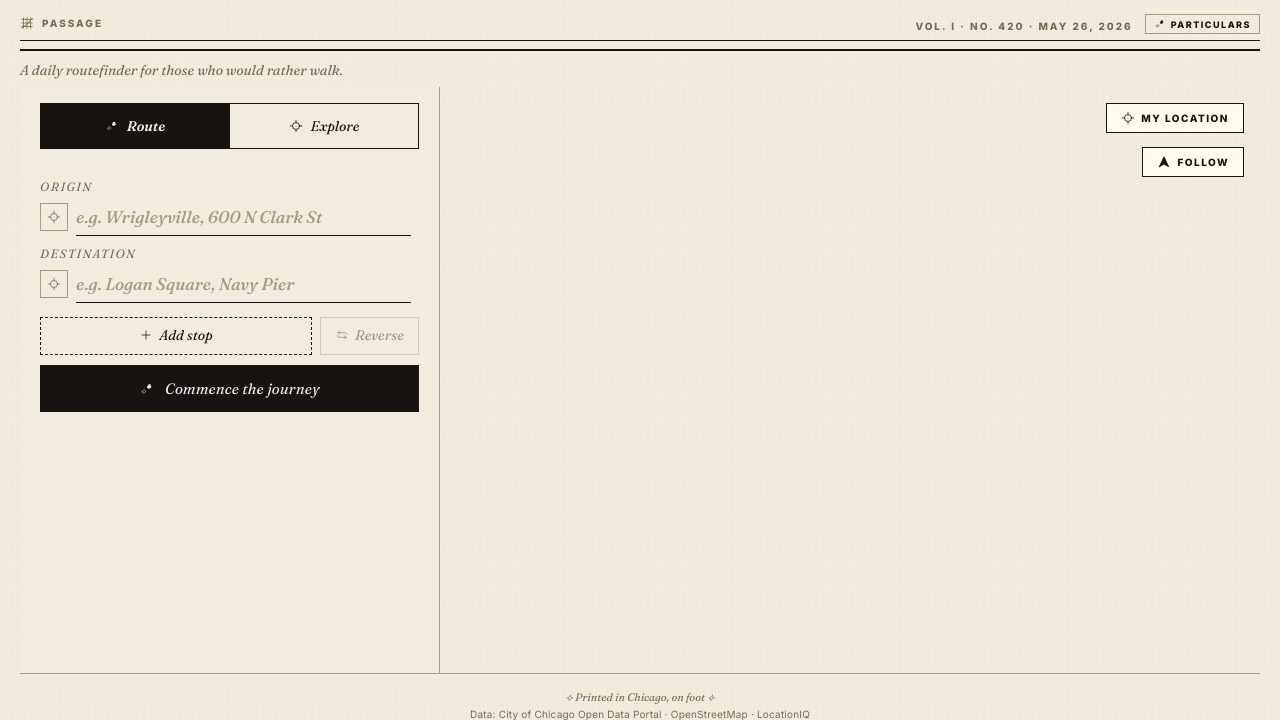
Test: animated route drawing › does not schedule animation when prefers-reduced-motion is active
Type "Wrigleyville" into the dropdown named "Origin" at [244, 217], box [76, 198, 411, 236]
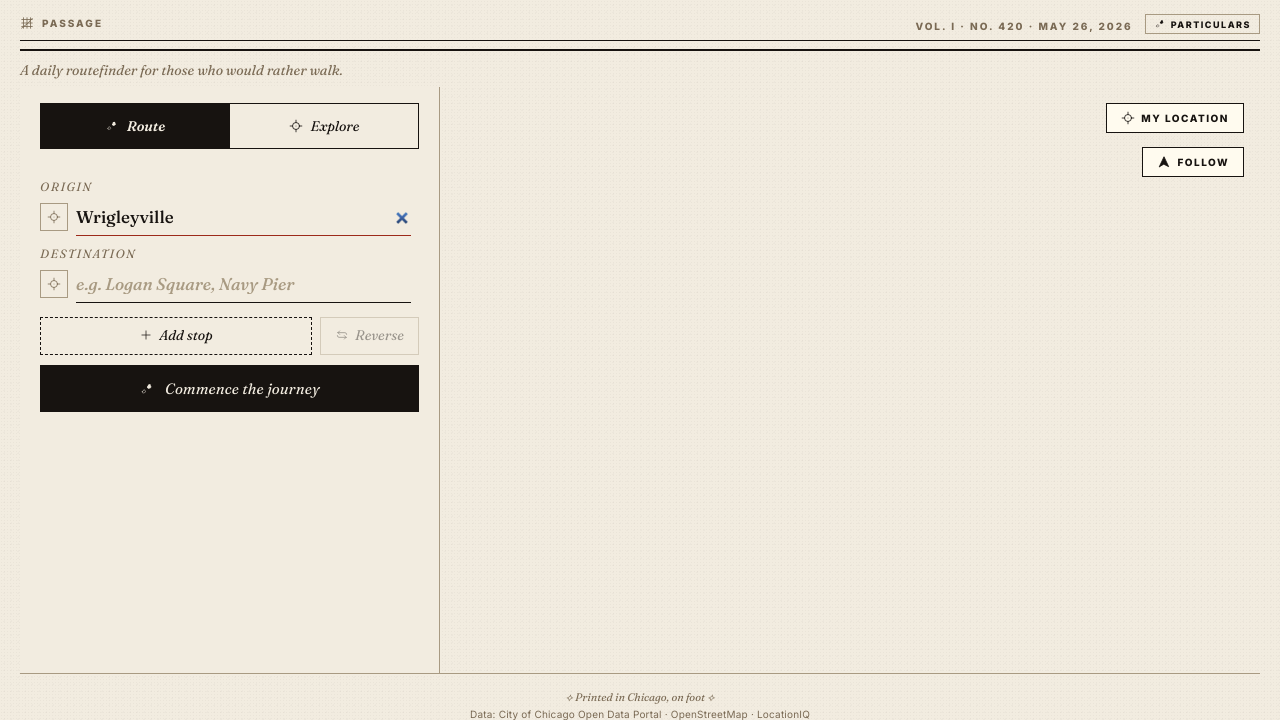
Type "Logan Square" into the dropdown named "Destination" at [244, 284], box [76, 265, 411, 303]
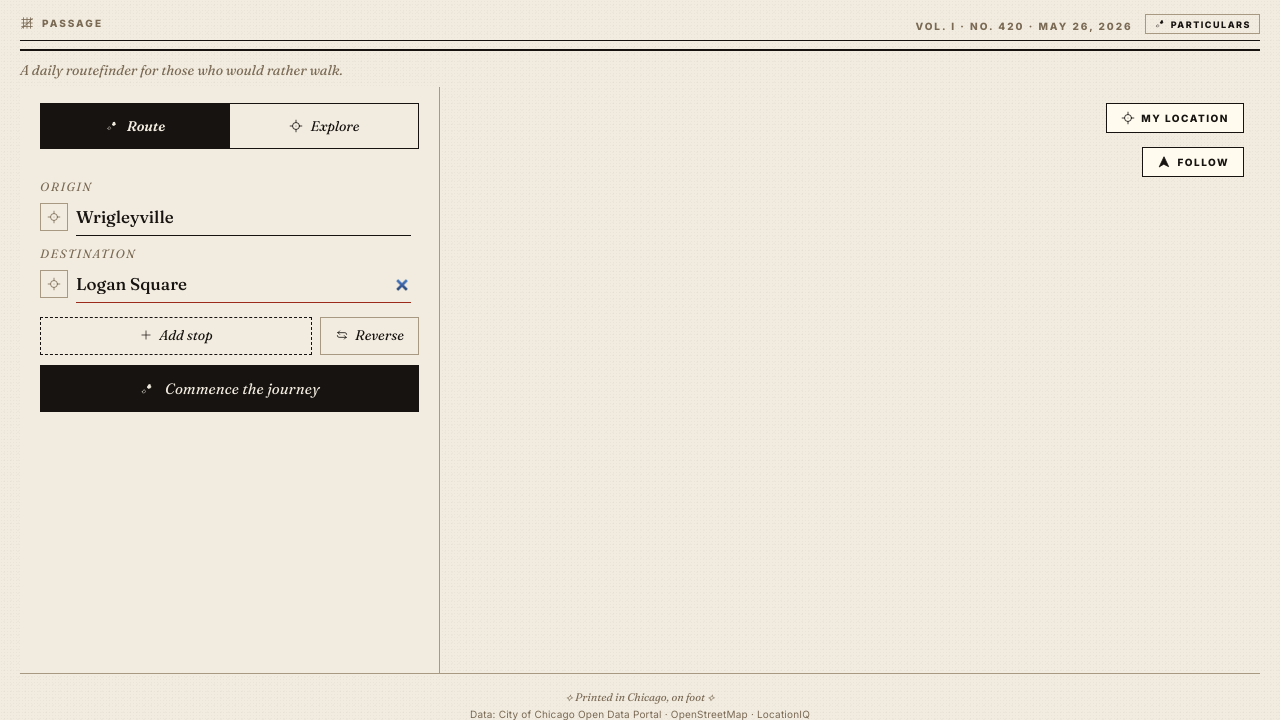
Click the button "Commence the journey" at [230, 388], box [40, 365, 419, 412]
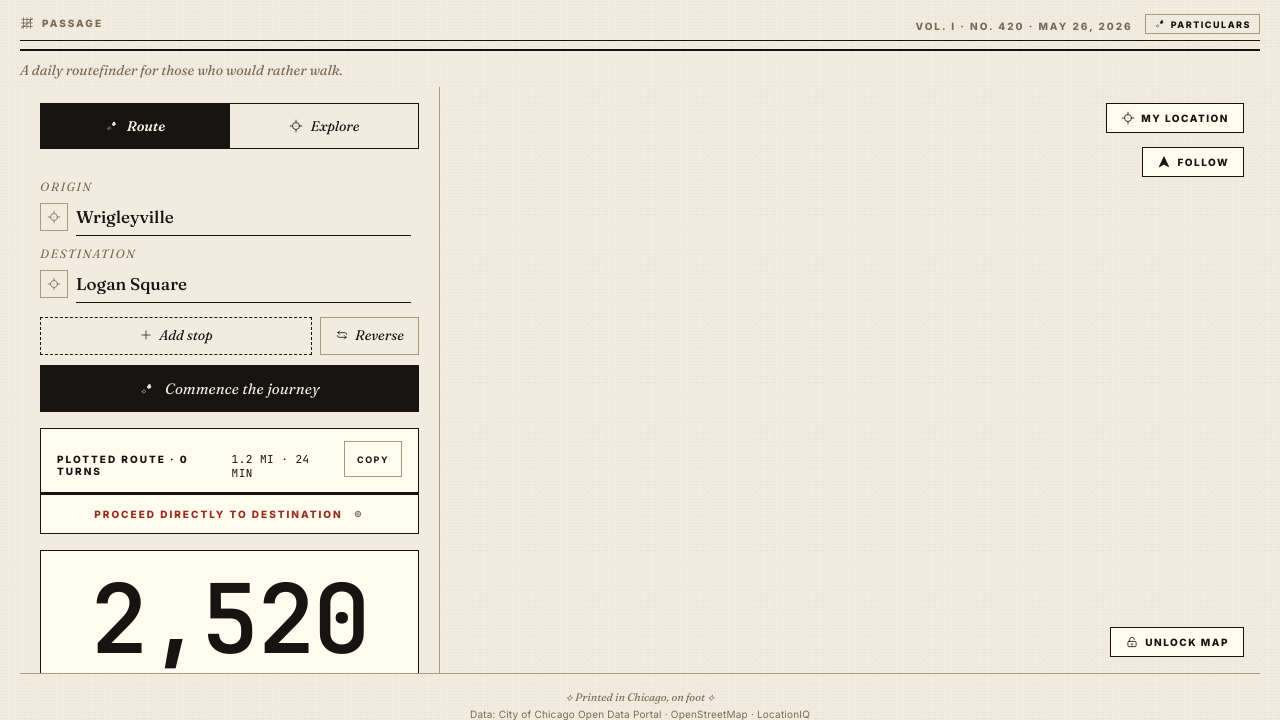
Expected: the button "Unlock map" is shown, [1110, 627, 1244, 657]
